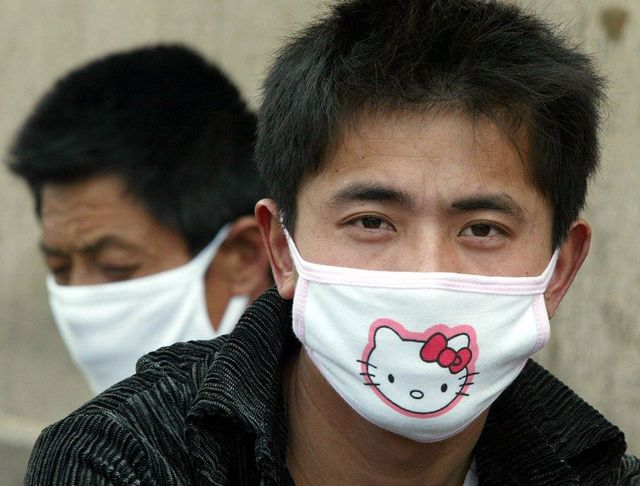mask: (302, 271, 554, 427), (52, 283, 193, 376)
